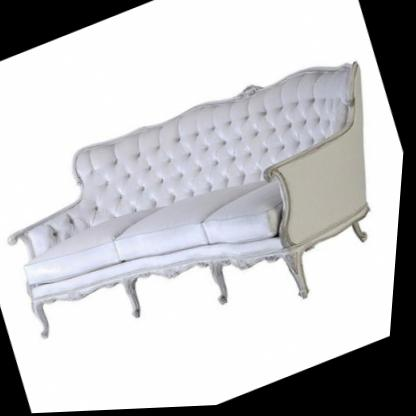Sofa: (0, 40, 413, 402)
